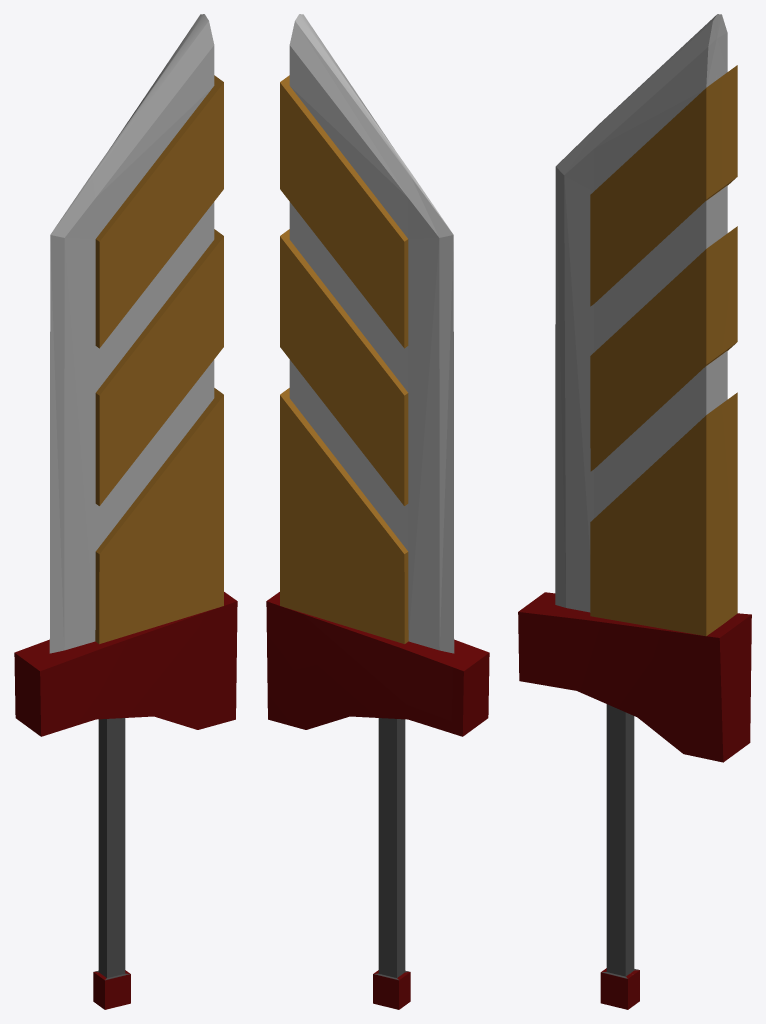
The model's file is Sword_TXT.fbx.
The picture shows the model from 3 angles, left to right: view 1: azimuth 30°, elevation 25°; view 2: azimuth 150°, elevation 25°; view 3: azimuth 330°, elevation 25°; orthographic projection. The views are drawn at different scales.
Visible parts, largest first — view 1: Sword; view 2: Sword; view 3: Sword.
Boxes of the visible parts, x1,y1,x2,y2 form: Sword: (14, 14, 237, 1009); Sword: (266, 14, 489, 1009); Sword: (518, 14, 751, 1009).
Bounding box in the file's own units: 52.54 × 14.24 × 248.
